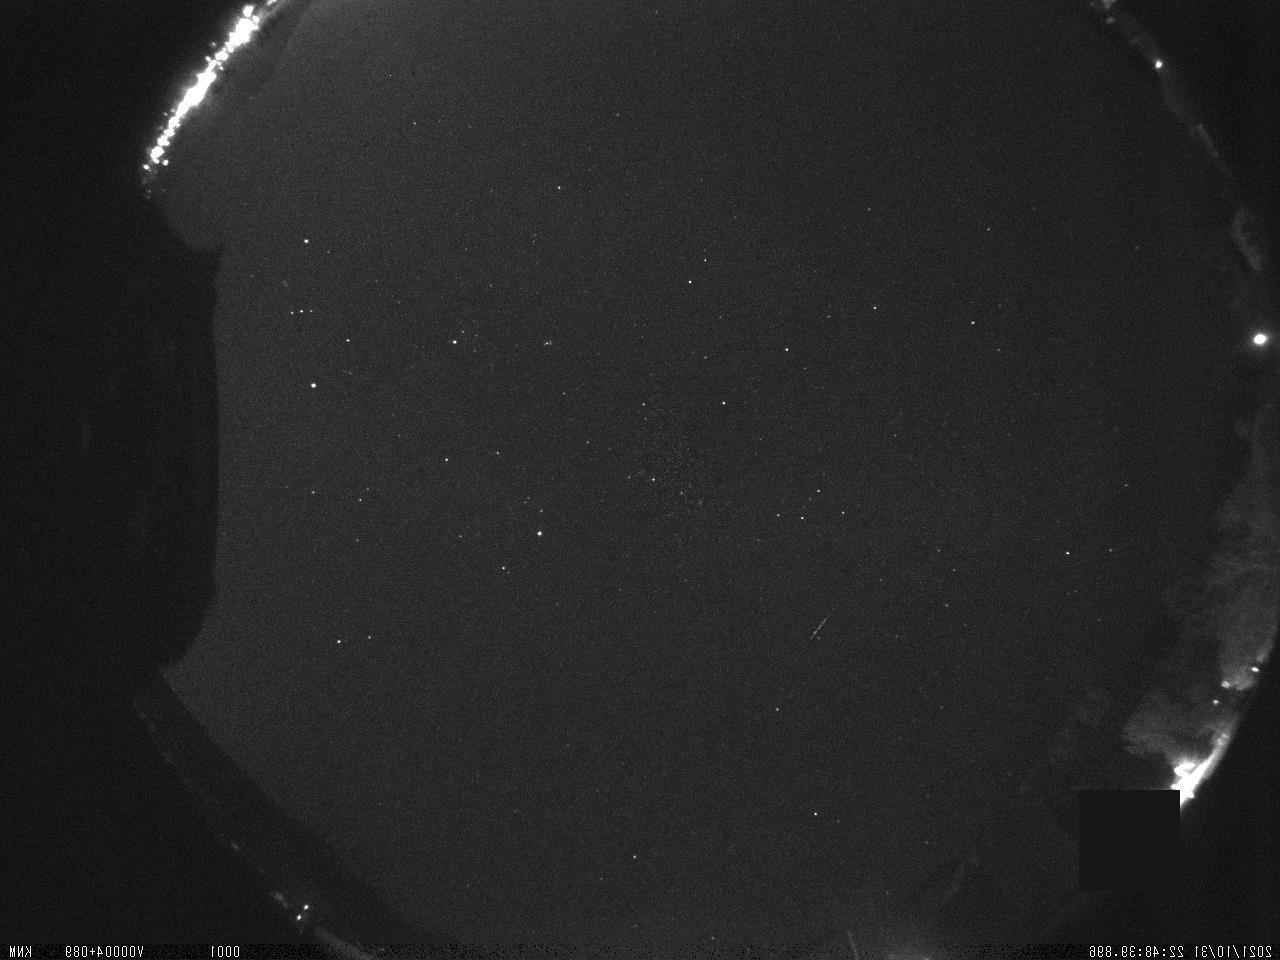meteor: (796, 611, 833, 647)
